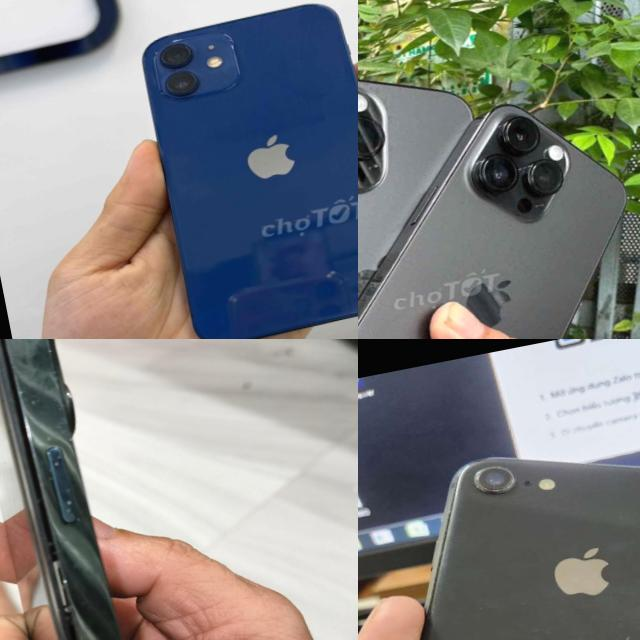gen_12_13: (135, 0, 358, 339), (0, 339, 202, 640)
gen_14: (358, 23, 546, 339)
gen_7_8: (358, 405, 640, 640)
scratch: (49, 556, 158, 640), (398, 503, 473, 621), (18, 442, 99, 548), (0, 339, 75, 444), (460, 454, 520, 500), (525, 622, 555, 640), (610, 510, 624, 520), (474, 602, 481, 614)
